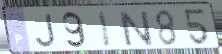5: (182, 7, 211, 47)
8: (155, 8, 180, 48)
9: (61, 11, 88, 50)
I: (97, 10, 114, 49)
J: (34, 13, 58, 49)
N: (117, 9, 156, 48)
